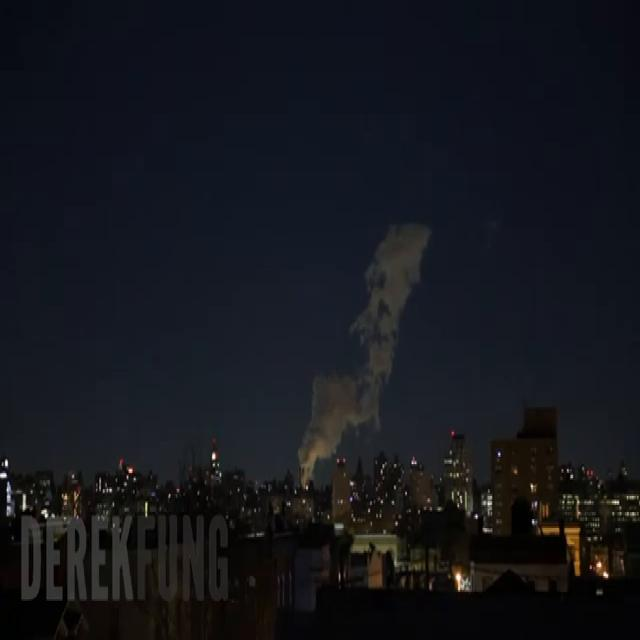smoke: (298, 224, 430, 482)
